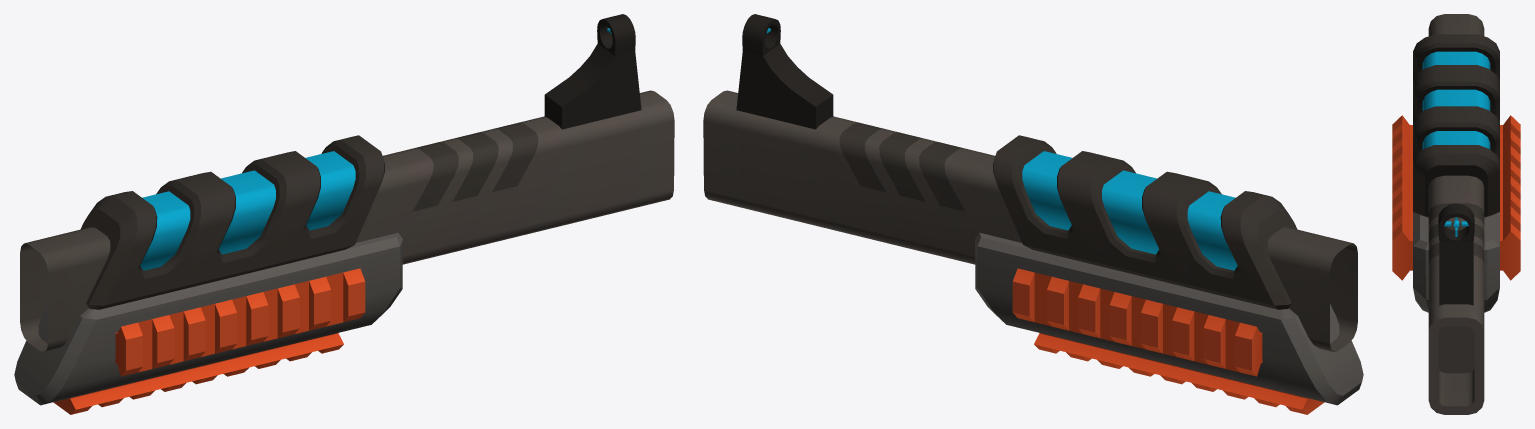
Rendered from AR3_Barrel_Mod.fbx.
3 views of the same model, side by side, from view 1: azimuth 30°, elevation 25°; view 2: azimuth 150°, elevation 25°; view 3: azimuth 270°, elevation 25° (orthographic).
Visible parts, largest first — view 1: AR3_Barrel_Mod; view 2: AR3_Barrel_Mod; view 3: AR3_Barrel_Mod.
Part boxes in pixels (left/top/right/bottom): AR3_Barrel_Mod: left=14, top=14, right=674, bottom=414; AR3_Barrel_Mod: left=703, top=14, right=1363, bottom=414; AR3_Barrel_Mod: left=1392, top=14, right=1520, bottom=414.
Bounding box in the file's own units: 34.62 × 13.31 × 6.08.
